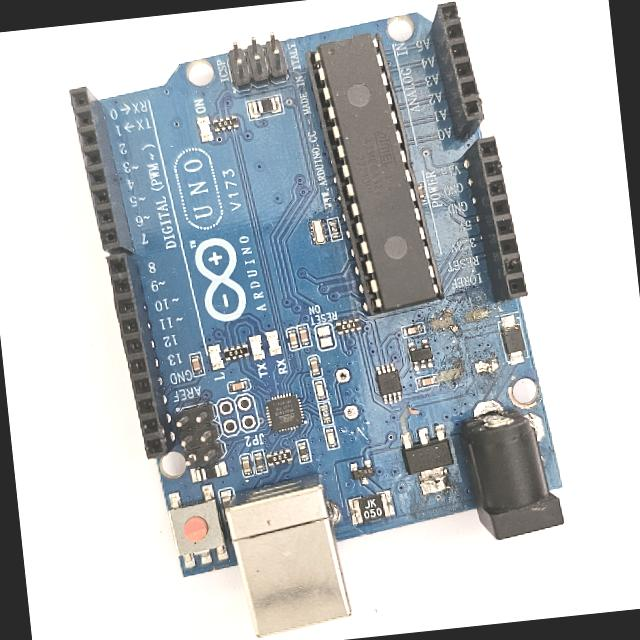missing_capacitors: (424, 299, 509, 394)
missing_crystal_os: (325, 353, 372, 442)
